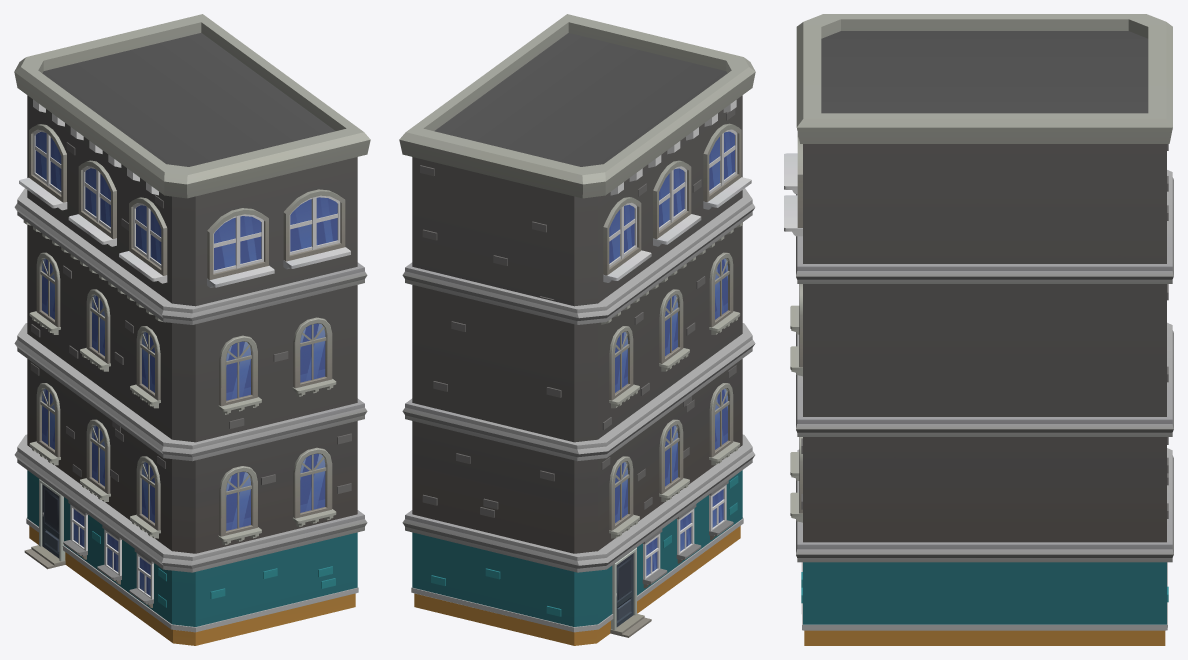
File: Building_18_2_A.fbx
3 views of the same model, side by side, from view 1: azimuth 30°, elevation 25°; view 2: azimuth 150°, elevation 25°; view 3: azimuth 270°, elevation 25° (orthographic). The views are drawn at different scales.
Parts seen in each view (by area): view 1: Building_18_2_A; view 2: Building_18_2_A; view 3: Building_18_2_A.
Boxes of the visible parts, x1,y1,x2,y2 form: Building_18_2_A: (14, 14, 370, 645); Building_18_2_A: (399, 14, 755, 645); Building_18_2_A: (784, 14, 1173, 645).
Size of the model in its own units: 719 by 1594 by 1059.
